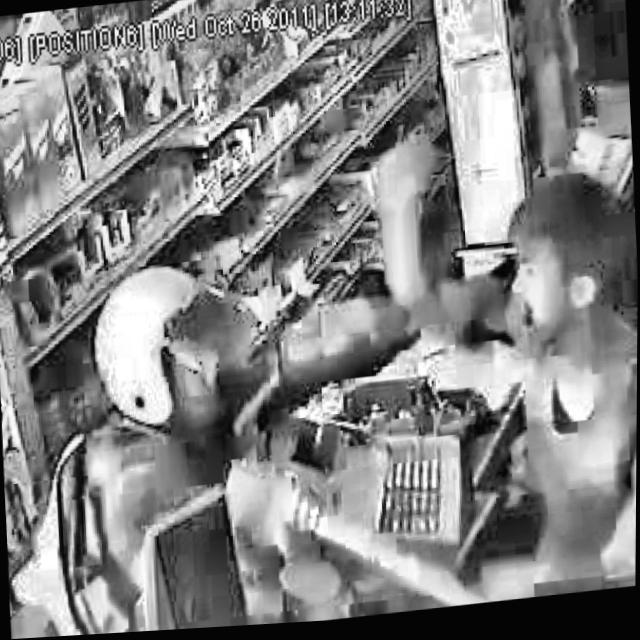robbery: (19, 229, 494, 639)
